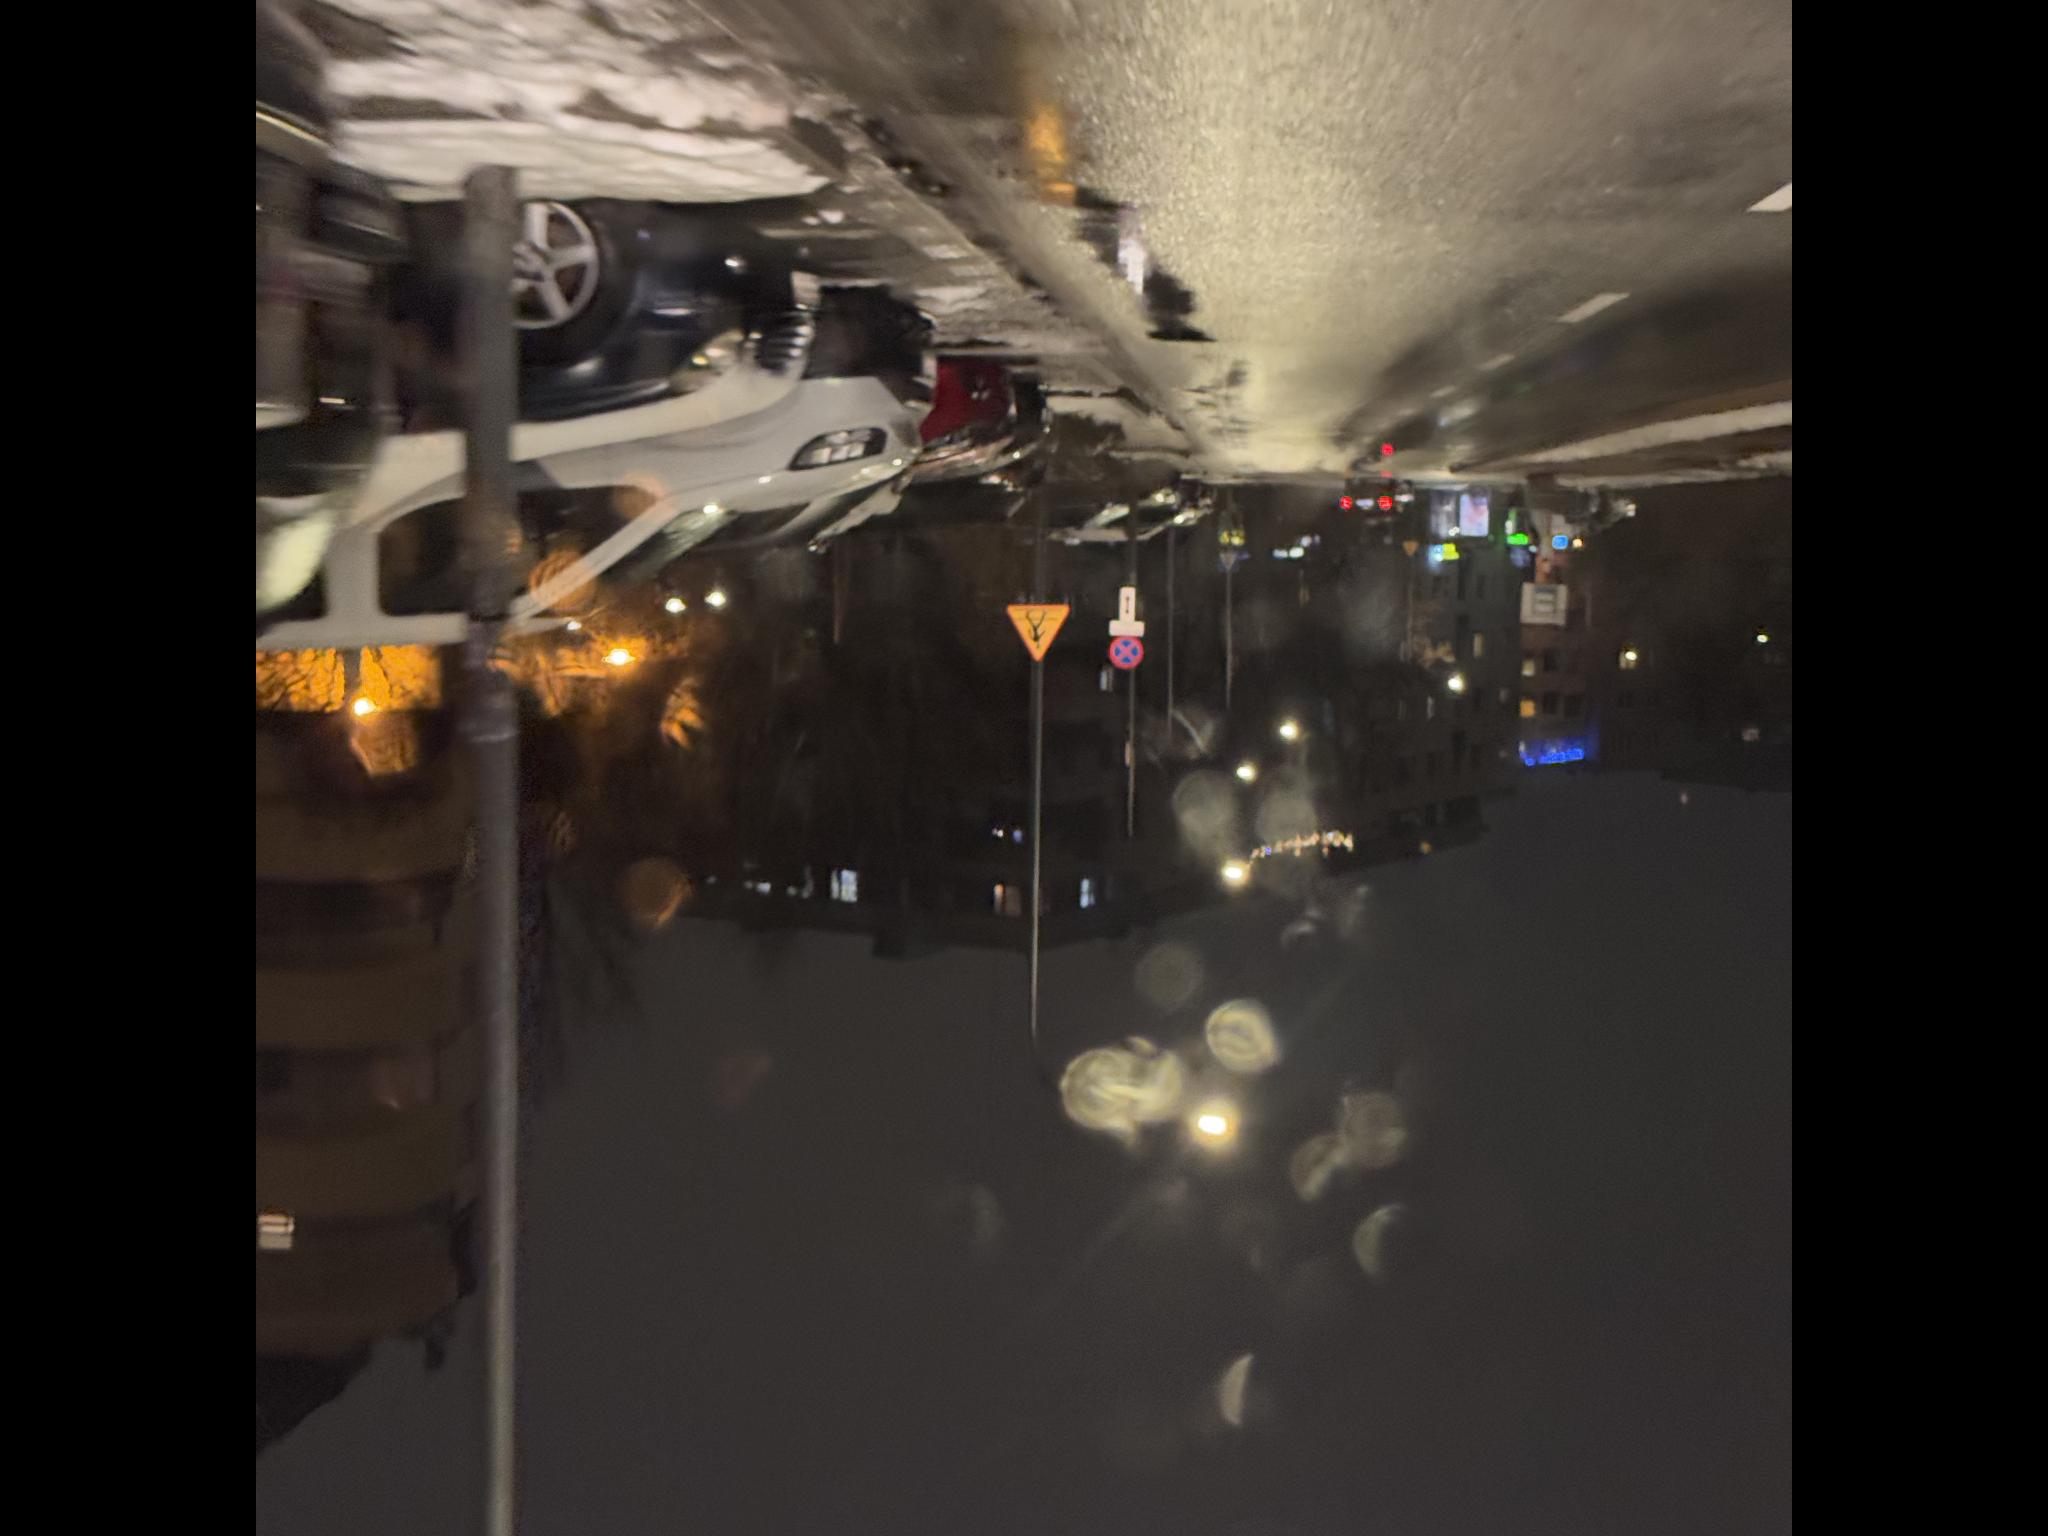other: (1428, 1119, 1464, 1135), (1414, 1111, 1428, 1145)
prohibitory: (1378, 1108, 1414, 1144)
warning: (1387, 1004, 1447, 1070)
